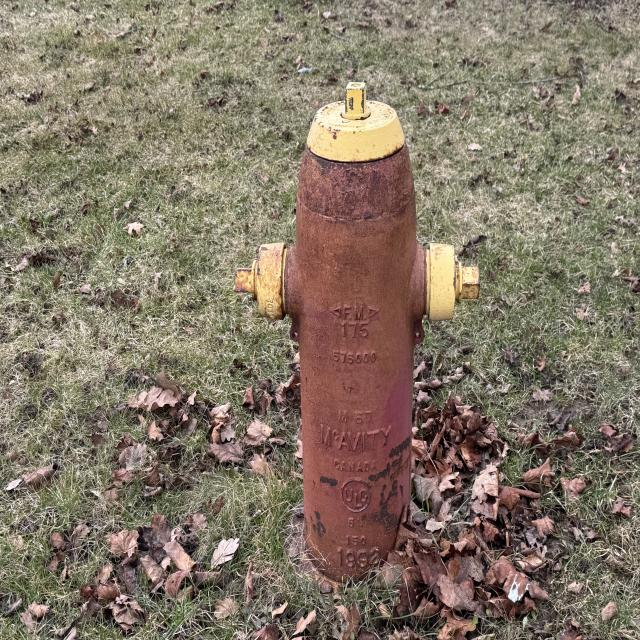Fire hydrant: (230, 79, 482, 596)
